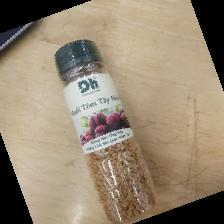TayNinh_green: (53, 39, 158, 223)
